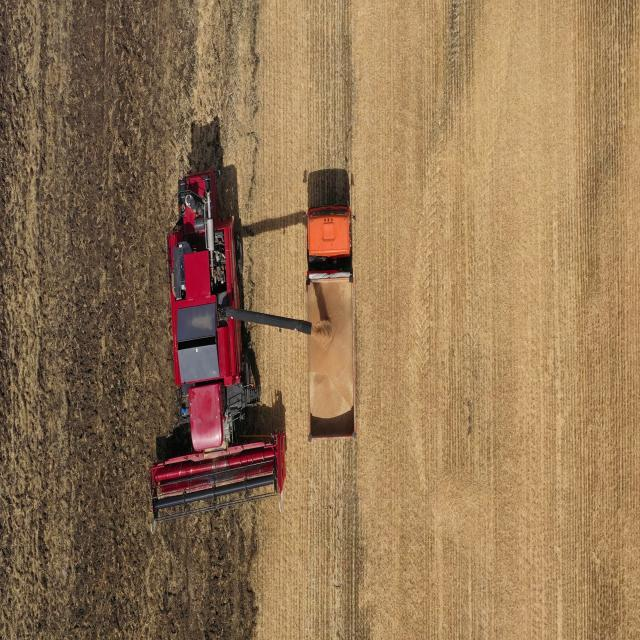vehicle: (150, 155, 285, 522), (303, 208, 358, 448)
